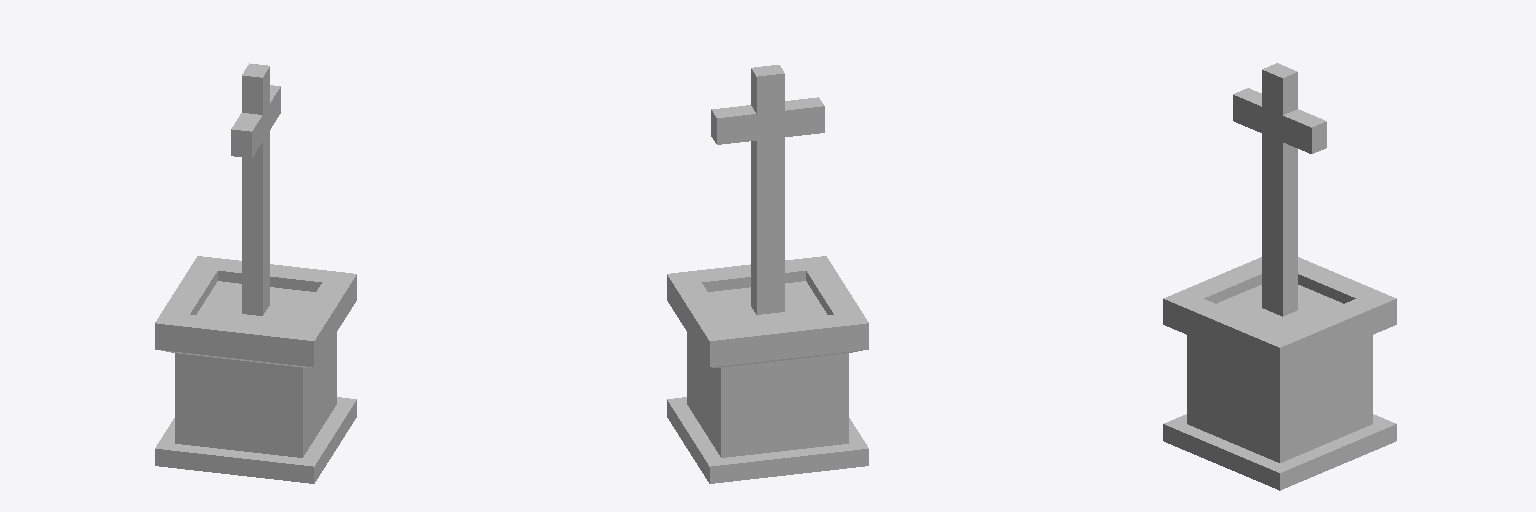
File: Cross_Wood_3 3.obj
3 views of the same model, side by side, from view 1: azimuth 30°, elevation 25°; view 2: azimuth 150°, elevation 25°; view 3: azimuth 270°, elevation 25° (orthographic).
Parts seen in each view (by area): view 1: Cross_Wood_3; view 2: Cross_Wood_3; view 3: Cross_Wood_3.
Part boxes in pixels (x1,y1,x2,y2): Cross_Wood_3: (155, 63, 356, 483); Cross_Wood_3: (667, 65, 868, 483); Cross_Wood_3: (1163, 63, 1396, 490).
Size of the model in its own units: 0.6081 by 1.06 by 0.6081.